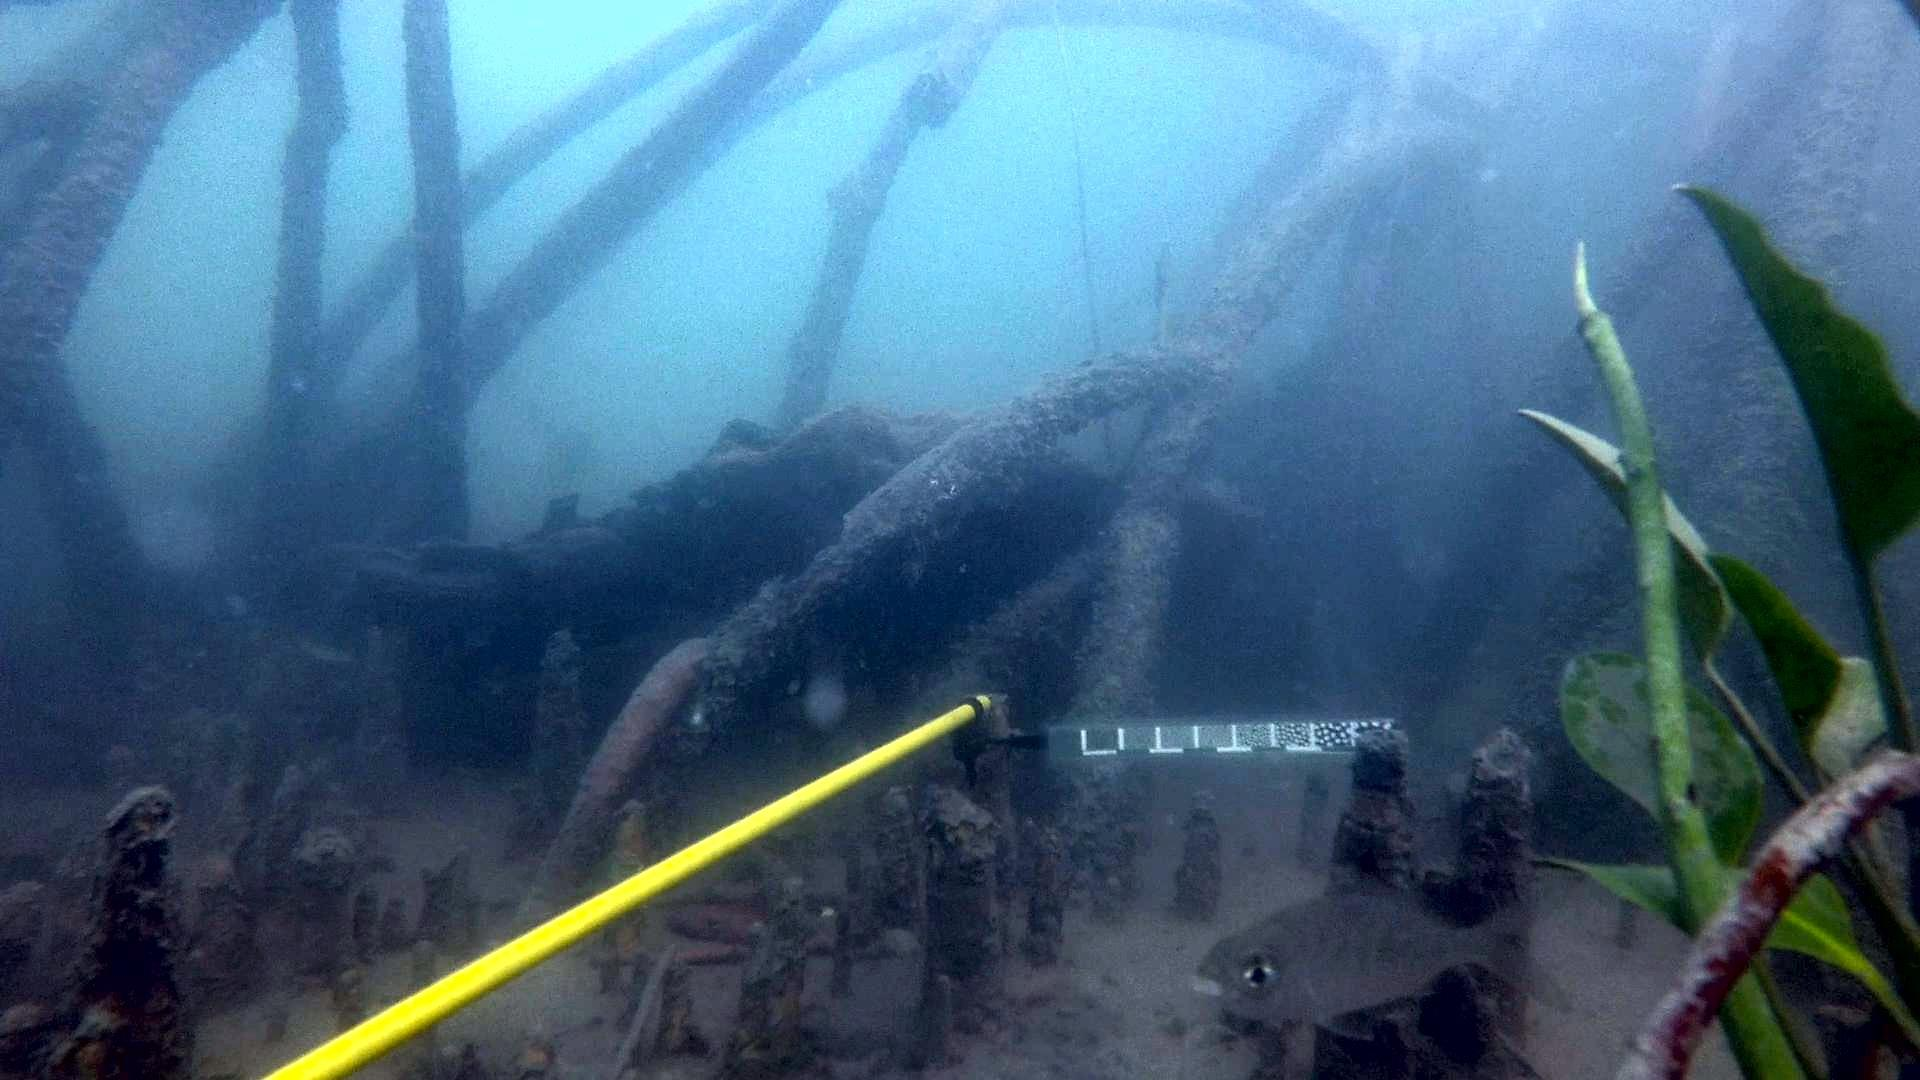gerres: (1184, 844, 1614, 1037)
